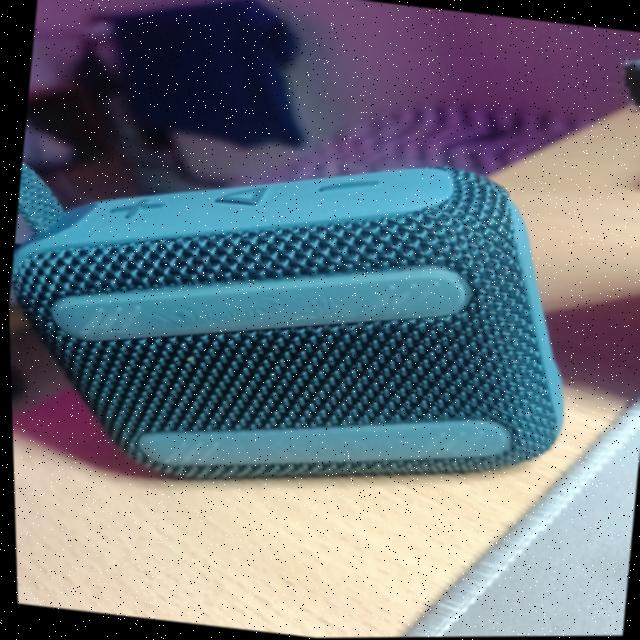column JBL: (3, 110, 595, 530)
